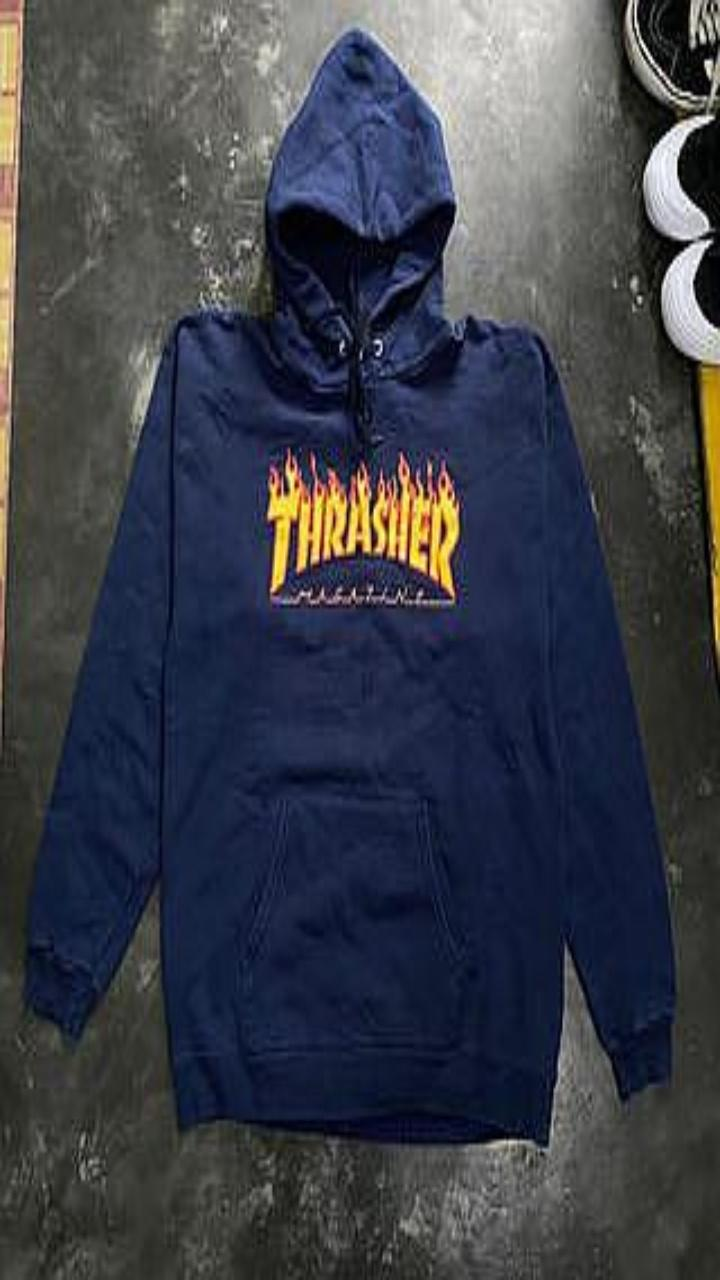Hoodie: (25, 29, 675, 1144)
